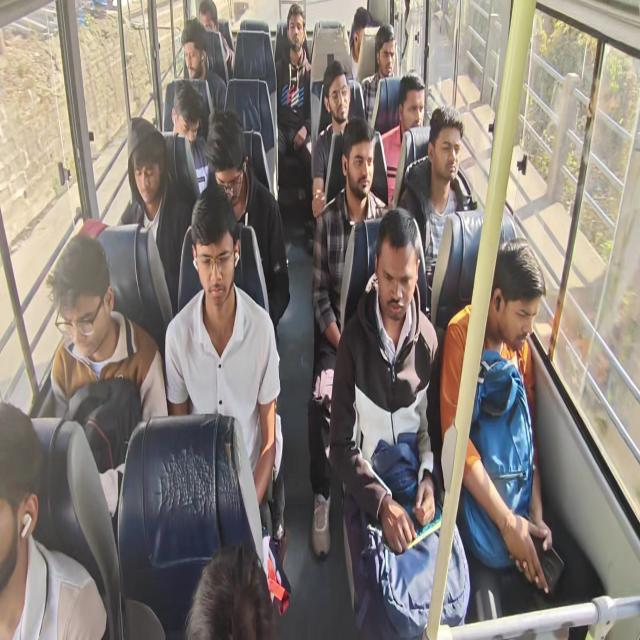person: (327, 206, 471, 638), (164, 186, 284, 560), (439, 238, 554, 592), (46, 232, 168, 548), (308, 116, 390, 559), (0, 400, 107, 638), (204, 109, 290, 342), (398, 104, 474, 287), (126, 117, 192, 317), (184, 542, 277, 639), (274, 3, 312, 177), (311, 59, 352, 219), (379, 71, 426, 205), (177, 18, 227, 140), (165, 79, 209, 195), (360, 23, 398, 124), (198, 0, 234, 79), (348, 7, 371, 81)
